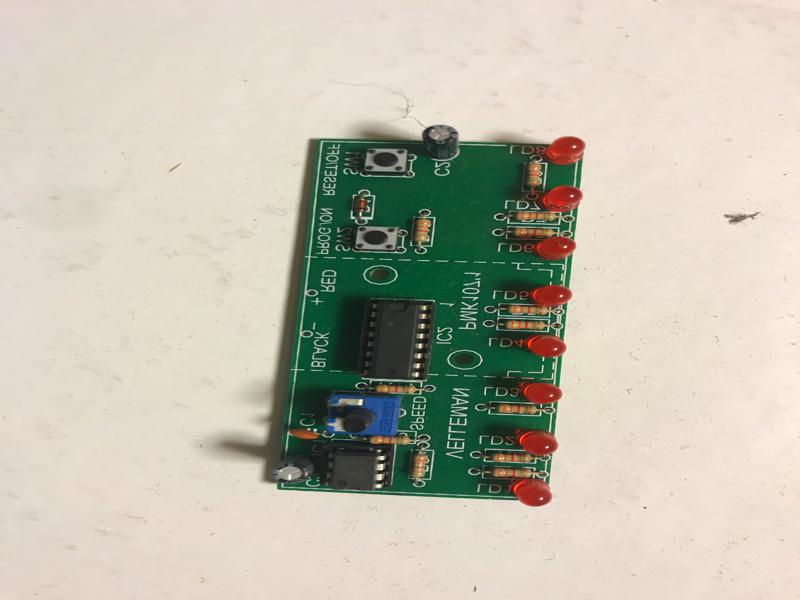Capacitor: (270, 456, 317, 487), (422, 123, 460, 160)
Diode: (352, 195, 370, 216)
LED: (508, 478, 555, 509), (542, 135, 587, 166), (539, 184, 585, 213), (517, 429, 561, 457), (533, 235, 578, 261), (519, 380, 564, 405), (526, 334, 569, 359), (530, 285, 574, 309)
Resistor: (523, 159, 547, 196), (486, 447, 533, 465), (485, 466, 536, 482), (491, 401, 540, 417), (371, 380, 420, 396), (408, 452, 433, 480), (510, 208, 559, 222), (503, 303, 553, 316), (509, 227, 558, 240), (500, 319, 549, 332), (365, 434, 412, 447), (413, 217, 431, 245)
